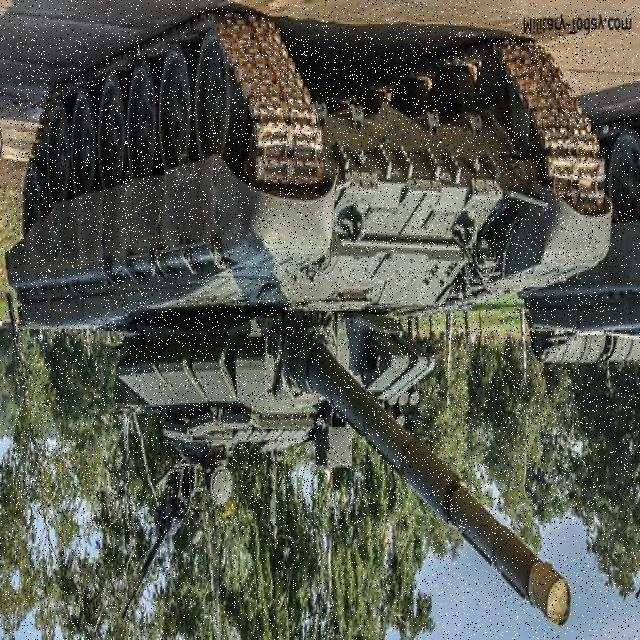MIL_MBT: (13, 33, 601, 525)
